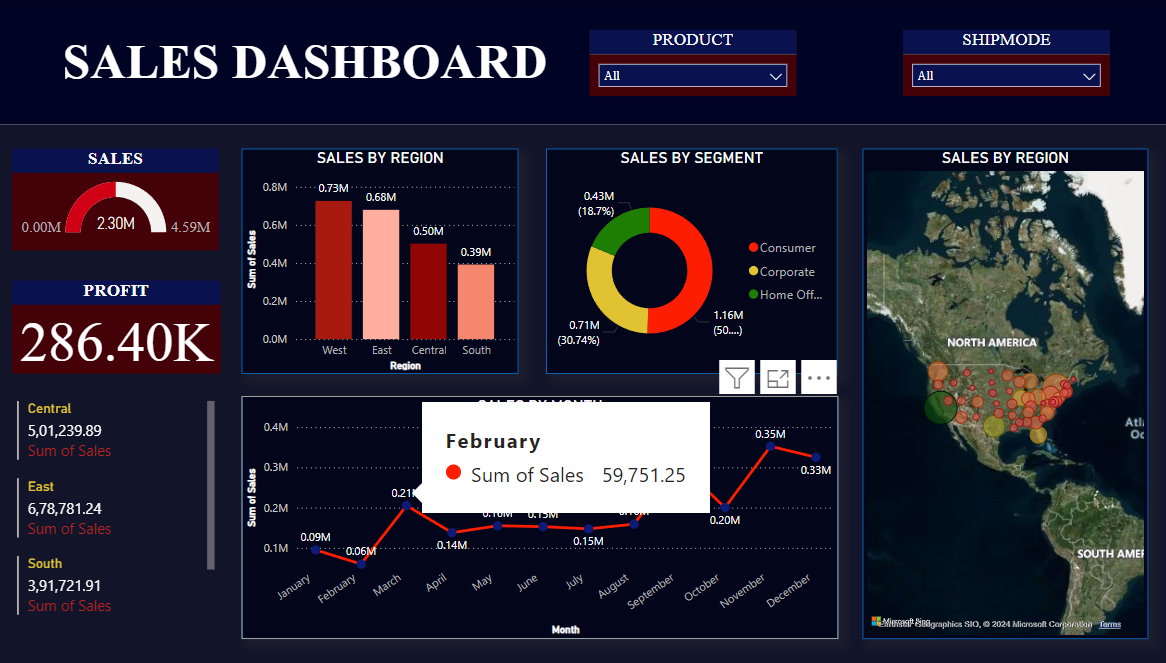

The page's visual inventory and layout, read from the dashboard file:
{"tool":"powerbi","page":{"name":"Page 1","canvas":[1280,720],"ordinal":0},"visuals":[{"type":"shape","box":[13,0,1267.9,134.4],"z":0},{"type":"shape","box":[13,134.4,1267.9,586.2],"z":1000},{"type":"shape","box":[276.8,160.7,299,243.4],"z":2000},{"type":"shape","box":[606,160.7,314.9,243.4],"z":3000},{"type":"shape","box":[948,160.7,308.6,529.7],"z":4000},{"type":"shape","box":[276.8,427.9,644.2,262.5],"z":5000},{"type":"clusteredColumnChart","title":"SALES BY REGION","fields":{"Category":["Location.Region"],"Y":["Sum(Data.Sales)"]},"box":[276.9,160.3,299.6,244.5],"z":6000},{"type":"donutChart","title":"SALES BY SEGMENT","fields":{"Y":["Sum(Data.Sales)"],"Category":["Segment.Segment"]},"box":[606,160.7,314.9,243.4],"z":7000},{"type":"map","title":"SALES BY REGION","fields":{"Size":["Sum(Data.Sales)"],"Category":["Location.State"]},"box":[948,160.7,308.6,529.7],"z":8000},{"type":"lineChart","title":"SALES BY MONTH","fields":{"Y":["Sum(Data.Sales)"],"Category":["Data.Order Date.Variation.Date Hierarchy.Month"]},"box":[276.9,427.5,644.5,262.3],"z":9000},{"type":"slicer","title":"PRODUCT","fields":{"Values":["Product.Product Name"]},"box":[652.5,32.4,223.5,71.2],"z":10000},{"type":"slicer","title":"SHIPMODE","fields":{"Values":["ShipMode.Ship Mode"]},"box":[991,32.4,223.5,71.2],"z":11000},{"type":"gauge","title":"SALES","fields":{"Y":["Sum(Data.Sales)"]},"box":[29.1,160.3,223.5,110.1],"z":12000},{"type":"card","title":"PROFIT","fields":{"Values":["Sum(Data.Profit)"]},"box":[29.1,302.8,225.1,100.4],"z":13000},{"type":"multiRowCard","title":"SALES BY REGION","fields":{"Values":["Location.Region","Sum(Data.Sales)"]},"box":[29.1,427.5,223.5,257.5],"z":13001}]}

Visuals, with their boxes in screenshot pixels (x1, y1, x2, y2), scaled from the page's 1280x720 canvas onto the 1166x663 screenshot:
shape: <region>12, 0, 1165, 124</region>
shape: <region>12, 124, 1165, 662</region>
shape: <region>252, 148, 525, 372</region>
shape: <region>552, 148, 839, 372</region>
shape: <region>864, 148, 1145, 636</region>
shape: <region>252, 394, 839, 636</region>
"SALES BY REGION" clusteredColumnChart: <region>252, 148, 525, 373</region>
"SALES BY SEGMENT" donutChart: <region>552, 148, 839, 372</region>
"SALES BY REGION" map: <region>864, 148, 1145, 636</region>
"SALES BY MONTH" lineChart: <region>252, 394, 839, 635</region>
"PRODUCT" slicer: <region>594, 30, 798, 95</region>
"SHIPMODE" slicer: <region>903, 30, 1106, 95</region>
"SALES" gauge: <region>27, 148, 230, 249</region>
"PROFIT" card: <region>27, 279, 232, 371</region>
"SALES BY REGION" multiRowCard: <region>27, 394, 230, 631</region>
